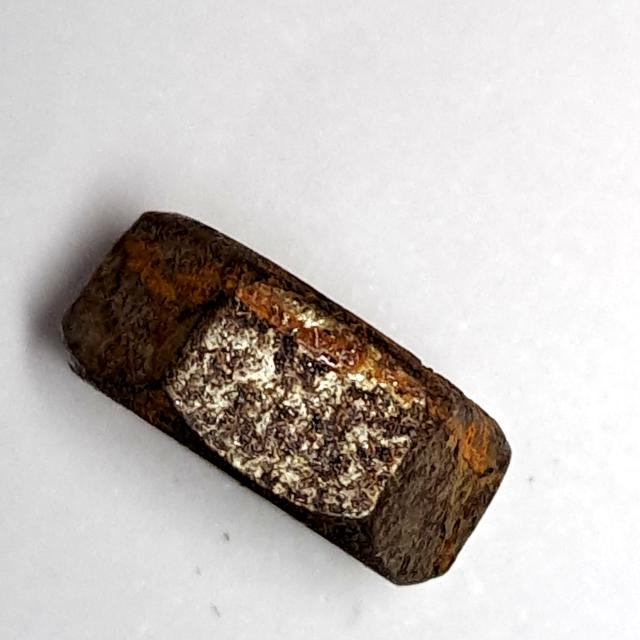Side_Rust: (51, 205, 530, 601)
